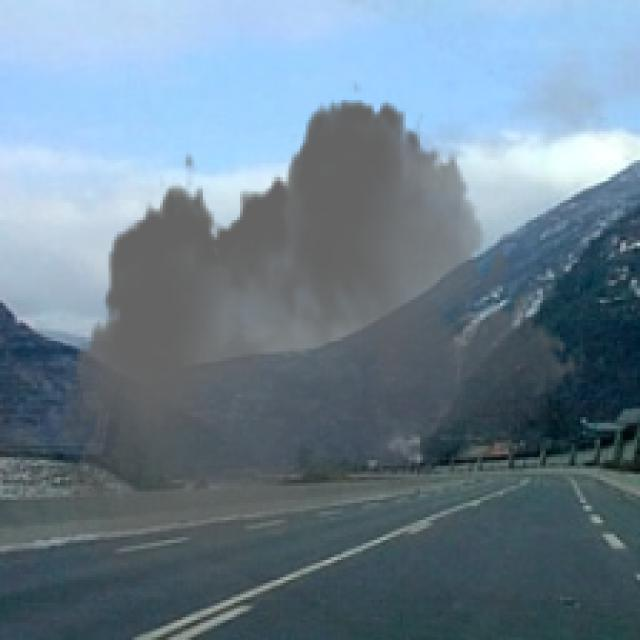smoke: (63, 80, 580, 623)
